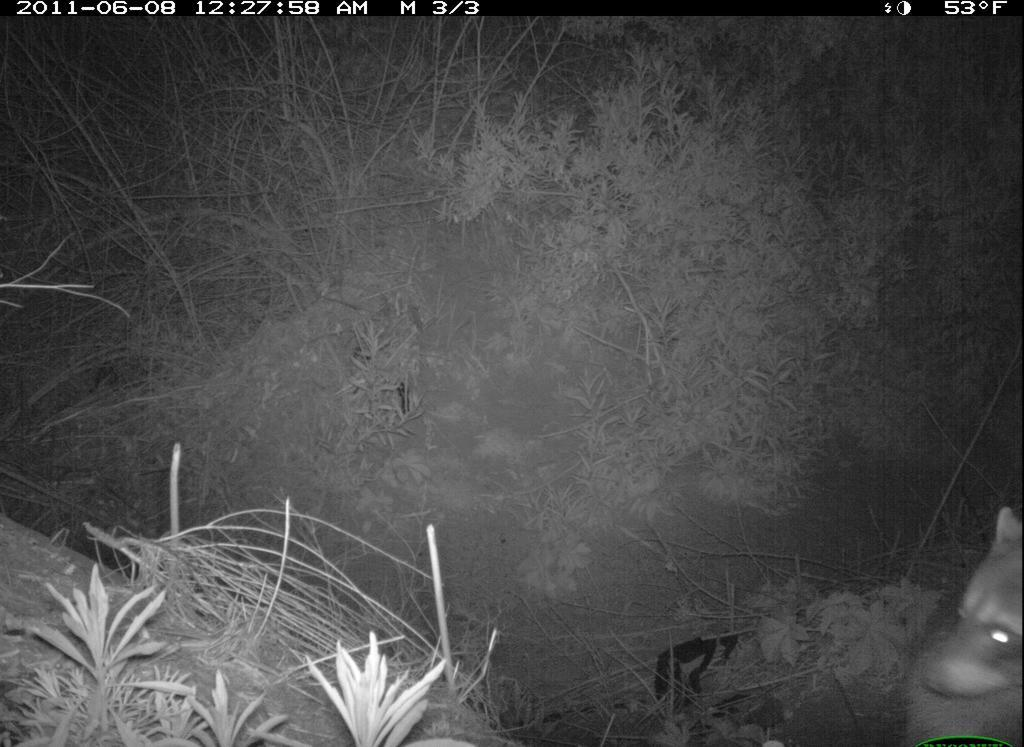raccoon: (898, 498, 1023, 747)
